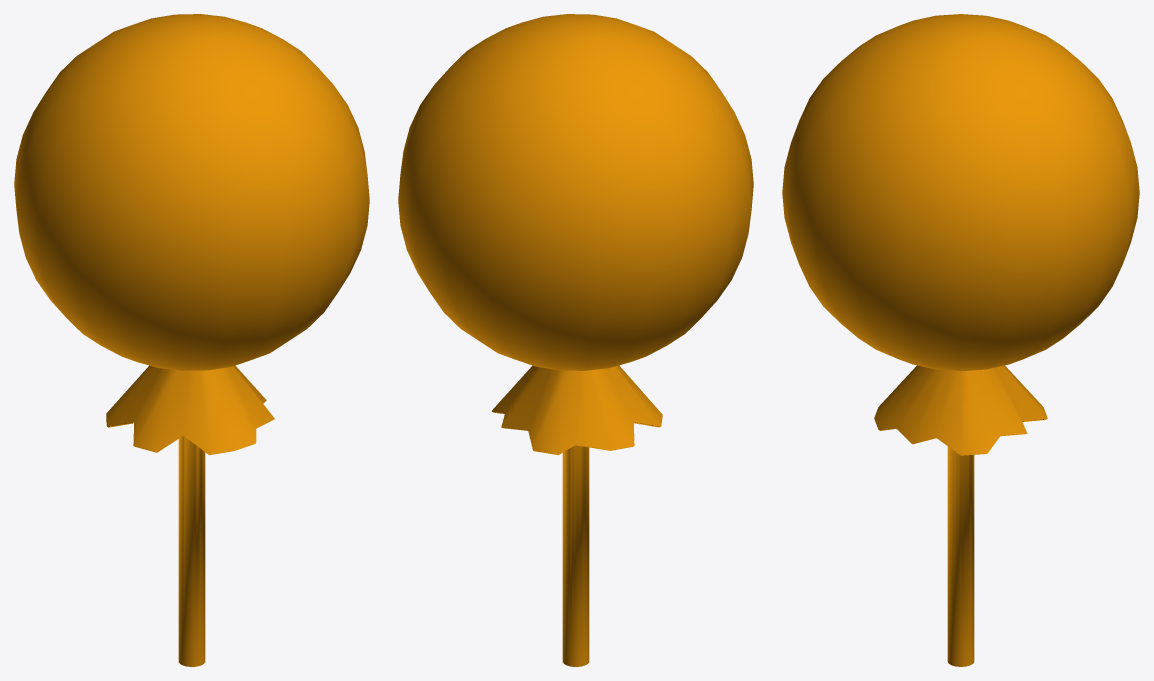
Rendered from Lollipop.fbx.
3 views of the same model, side by side, from view 1: azimuth 30°, elevation 25°; view 2: azimuth 150°, elevation 25°; view 3: azimuth 270°, elevation 25° (orthographic).
Visible parts, largest first — view 1: lollipop; view 2: lollipop; view 3: lollipop.
Boxes of the visible parts, x1,y1,x2,y2 form: lollipop: [14, 14, 369, 666]; lollipop: [398, 14, 753, 666]; lollipop: [782, 14, 1139, 666].
Size of the model in its own units: 2 by 3.89 by 2.
